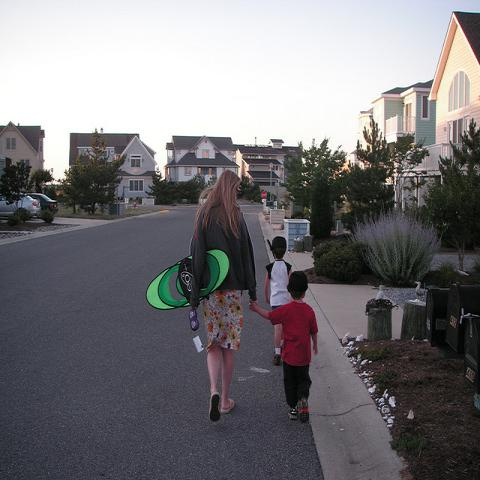car: (2, 195, 39, 222), (26, 193, 59, 213)
